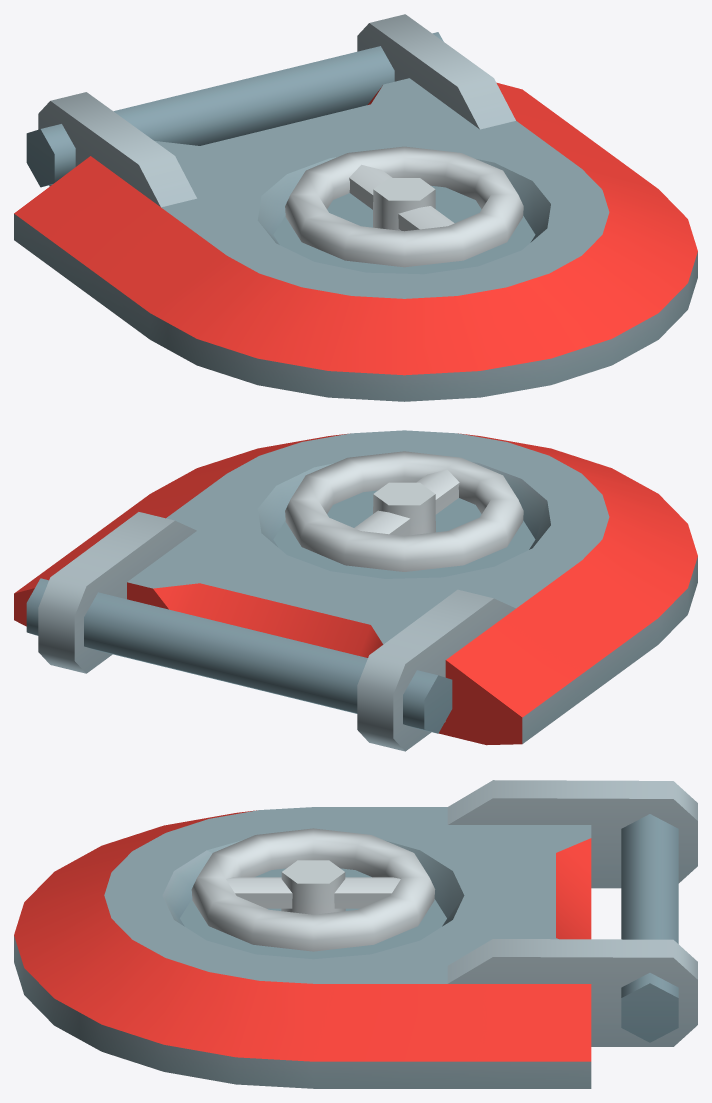
Rendered from Hatch_008_door_001.fbx.
3 views of the same model, one above another, from view 1: azimuth 30°, elevation 25°; view 2: azimuth 150°, elevation 25°; view 3: azimuth 270°, elevation 25° (orthographic).
Visible parts, largest first — view 1: Hatch_008_door_001; view 2: Hatch_008_door_001; view 3: Hatch_008_door_001.
Part boxes in pixels (x1=…): Hatch_008_door_001: x1=14, y1=14, x2=697, y2=401; Hatch_008_door_001: x1=14, y1=430, x2=697, y2=751; Hatch_008_door_001: x1=14, y1=780, x2=697, y2=1088.
Size of the model in its own units: 80 by 91.37 by 17.28.
